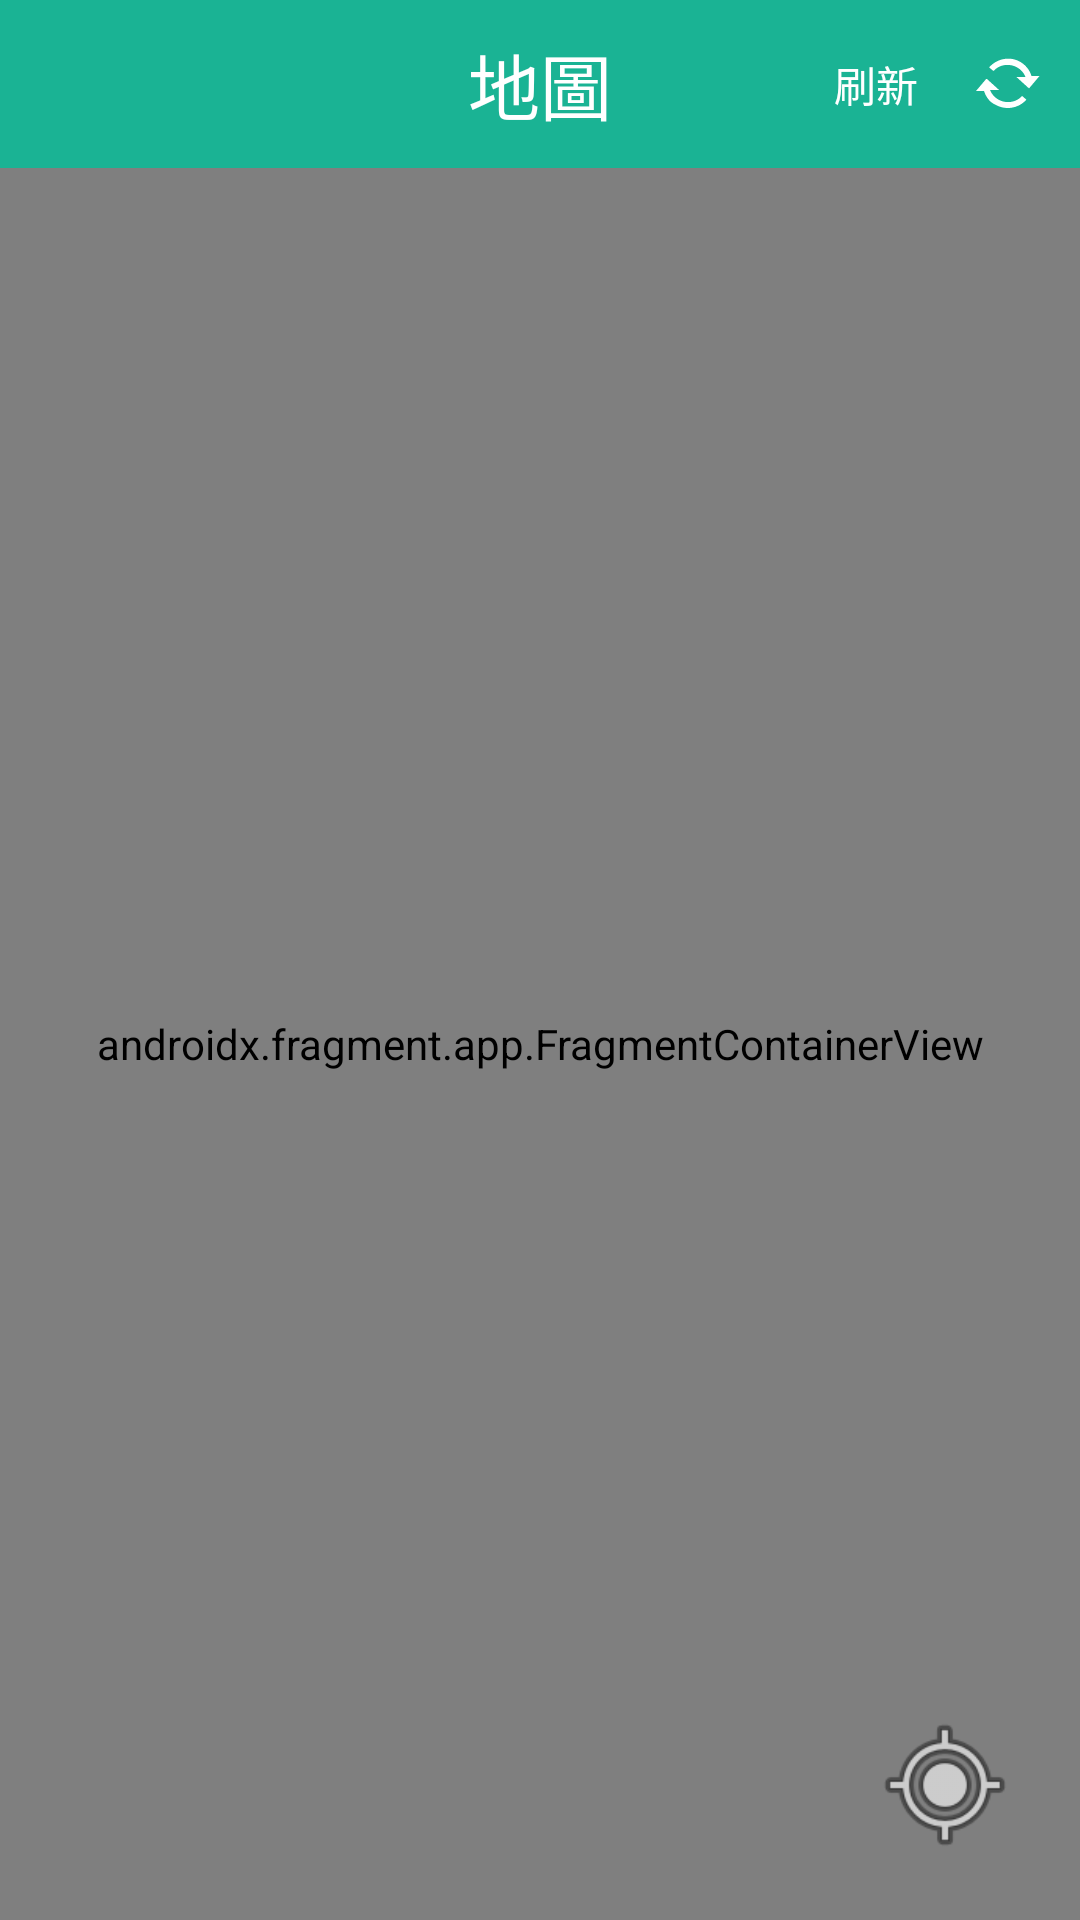

Point at icon controls on the screen. Image size 1080x1920, points as (x=x, y=y).
mylocation: (x=945, y=1785)
